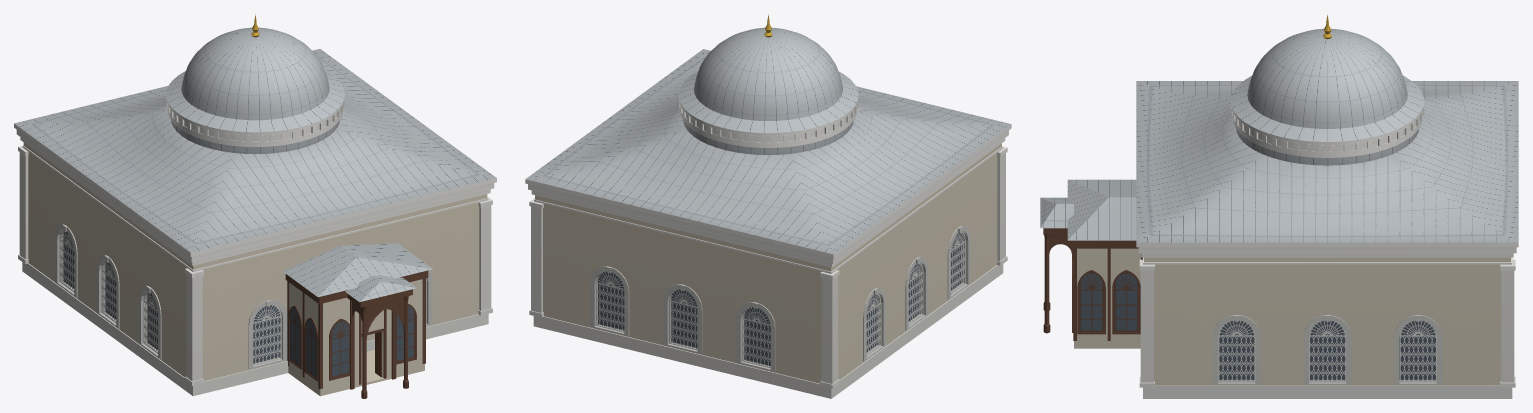
File: orhan-gazi-turbesi_v02.glb
The picture shows the model from 3 angles, left to right: view 1: azimuth 30°, elevation 25°; view 2: azimuth 150°, elevation 25°; view 3: azimuth 270°, elevation 25°; orthographic projection. The views are drawn at different scales.
Visible parts, largest first — view 1: Cati_Etek, Govde, Giris_Holu, Pilastr_Silme, Kubbe, Pencereler, Kasnak; view 2: Govde, Cati_Etek, Pilastr_Silme, Kubbe, Pencereler, Kasnak; view 3: Cati_Etek, Govde, Kubbe, Pilastr_Silme, Giris_Holu, Pencereler, Kasnak.
Boxes of the visible parts, x1,y1,x2,y2 form: Cati_Etek: [14, 49, 496, 252]; Govde: [23, 142, 487, 380]; Giris_Holu: [283, 243, 432, 398]; Pilastr_Silme: [14, 55, 496, 396]; Kubbe: [166, 14, 344, 132]; Pencereler: [54, 224, 432, 369]; Kasnak: [166, 100, 344, 154]; Govde: [535, 143, 1001, 383]; Cati_Etek: [526, 49, 1010, 254]; Pilastr_Silme: [525, 124, 1011, 398]; Kubbe: [678, 14, 858, 133]; Pencereler: [590, 225, 970, 371]; Kasnak: [679, 100, 857, 155]; Cati_Etek: [1136, 81, 1518, 242]; Govde: [1144, 257, 1510, 385]; Kubbe: [1230, 15, 1424, 141]; Pilastr_Silme: [1136, 242, 1518, 398]; Giris_Holu: [1040, 179, 1142, 348]; Pencereler: [1213, 258, 1512, 384]; Kasnak: [1231, 107, 1423, 165].
Bounding box in the file's own units: 17.5 × 15.5 × 21.9.
Materials: 12 (4 with a texture image).
